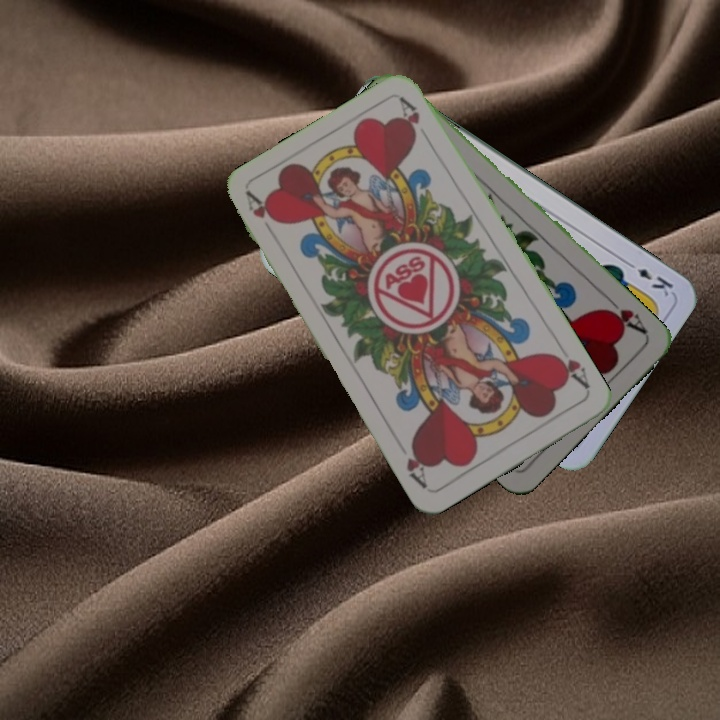EK: (622, 257, 676, 299)
HA: (598, 293, 650, 338), (242, 189, 281, 243), (547, 348, 593, 392)
